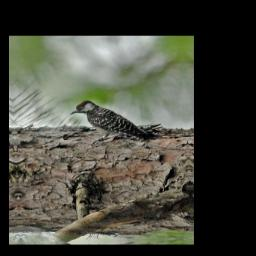Woodpecker: (65, 98, 159, 146)
